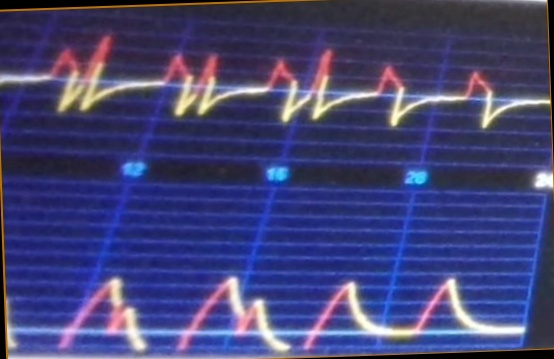Double_Triggering Flow: (17, 32, 518, 143)
Double_Triggering Volume: (45, 267, 510, 348)
